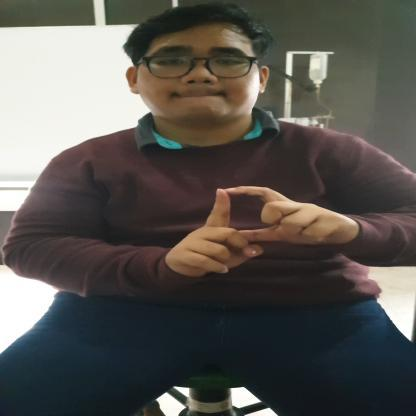D: (172, 186, 350, 276)
